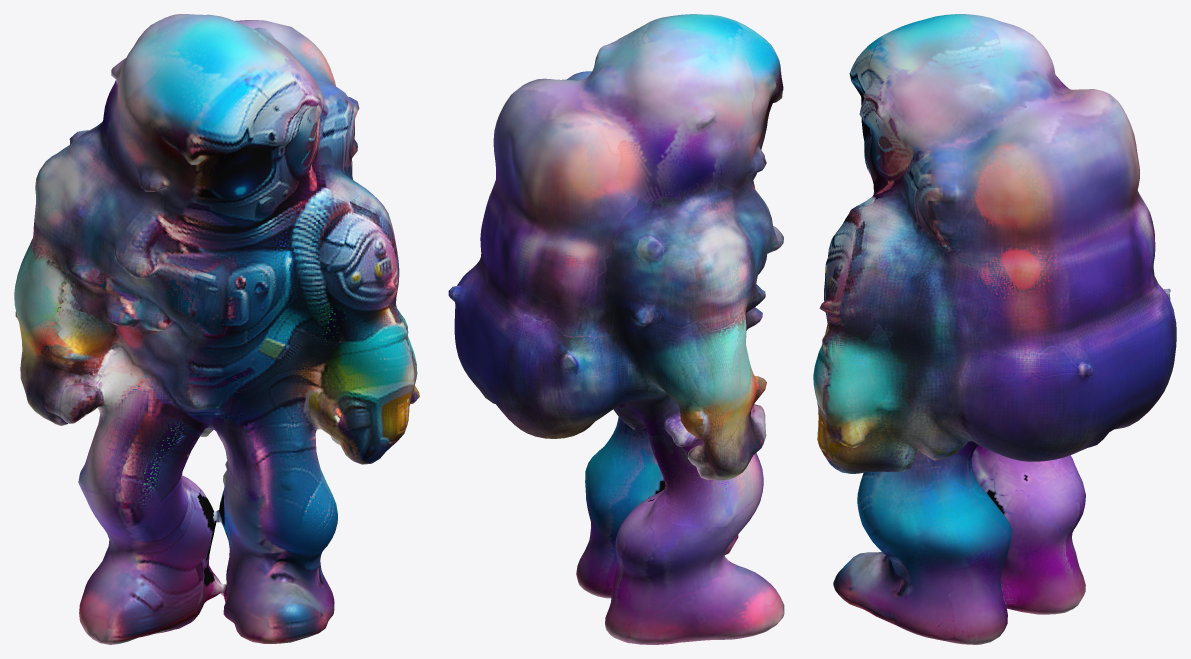
File: astronaut_2.glb
The picture shows the model from 3 angles, left to right: view 1: azimuth 30°, elevation 25°; view 2: azimuth 150°, elevation 25°; view 3: azimuth 270°, elevation 25°; orthographic projection. The views are drawn at different scales.
Visible parts, largest first — view 1: model.obj_1; view 2: model.obj_1; view 3: model.obj_1.
Boxes of the visible parts, left/top/right/bottom form: model.obj_1: left=14, top=14, right=419, bottom=644; model.obj_1: left=448, top=14, right=784, bottom=644; model.obj_1: left=813, top=14, right=1176, bottom=644.
Bounding box in the file's own units: 0.5688 × 1.07 × 0.6.
Materials: 1 (1 with a texture image).
